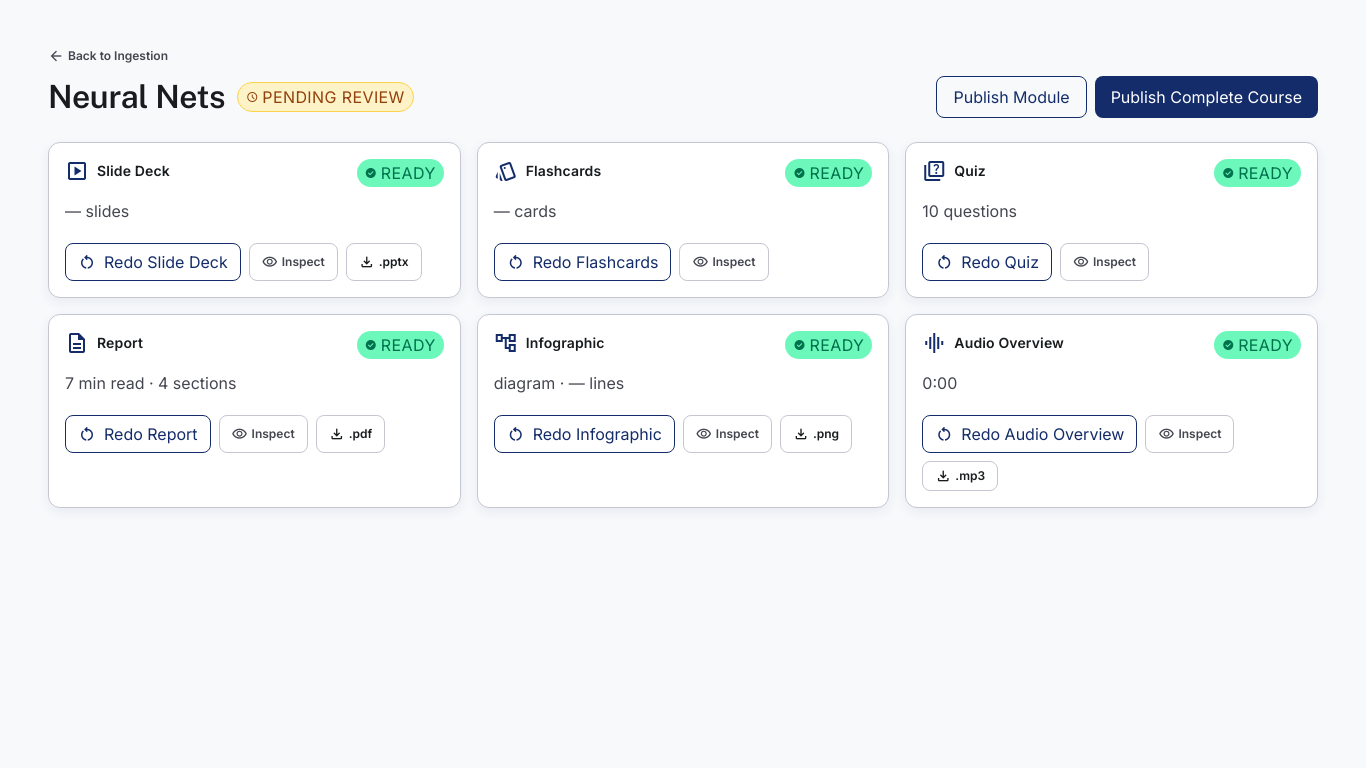
Scenario: StagingPage › wires BTN-SR2 (Publish Complete Course) to the course-scoped confirm modal
Check: the heading "Neural Nets" is shown, box [48,77,225,117]
Click the button with test id "btn-sr2": (1206, 97) [1095,76,1318,118]
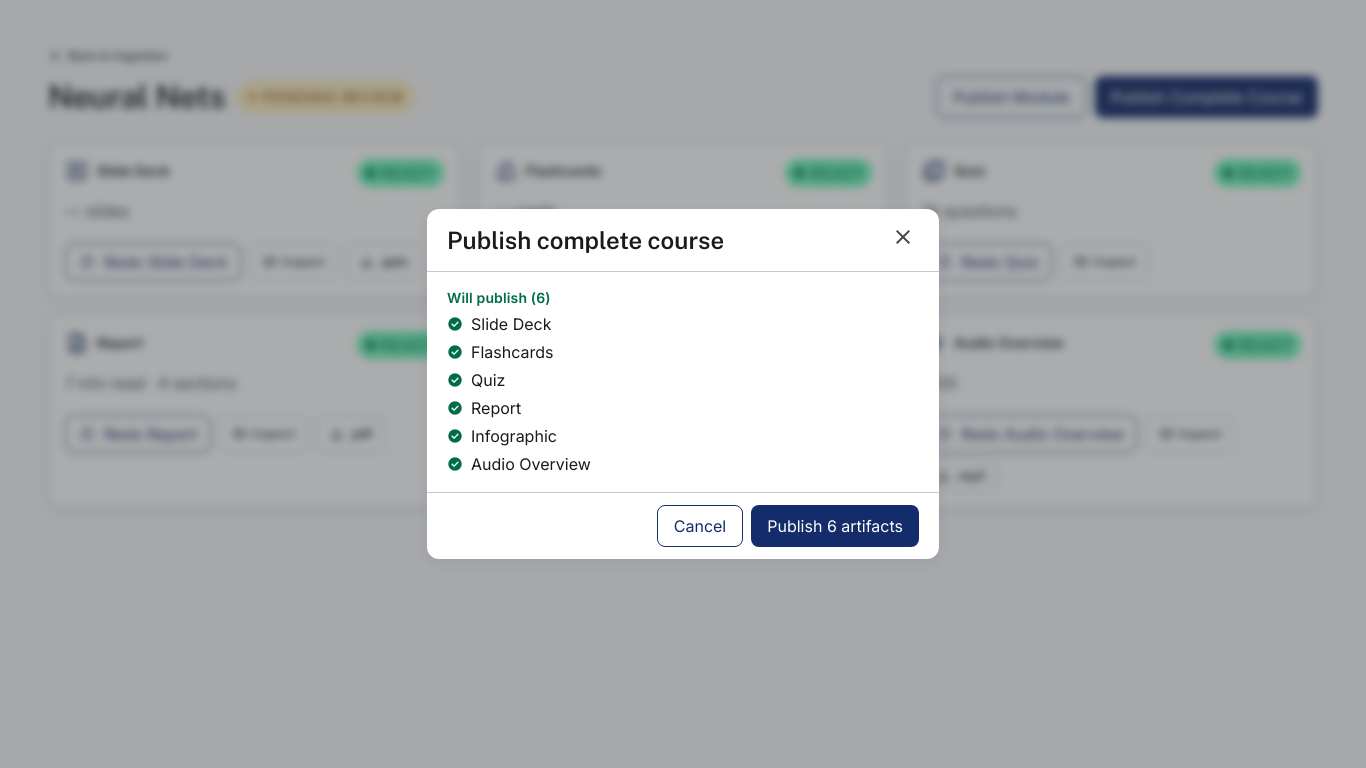
Check: the heading "Publish complete course" is shown, box [447,224,724,256]
